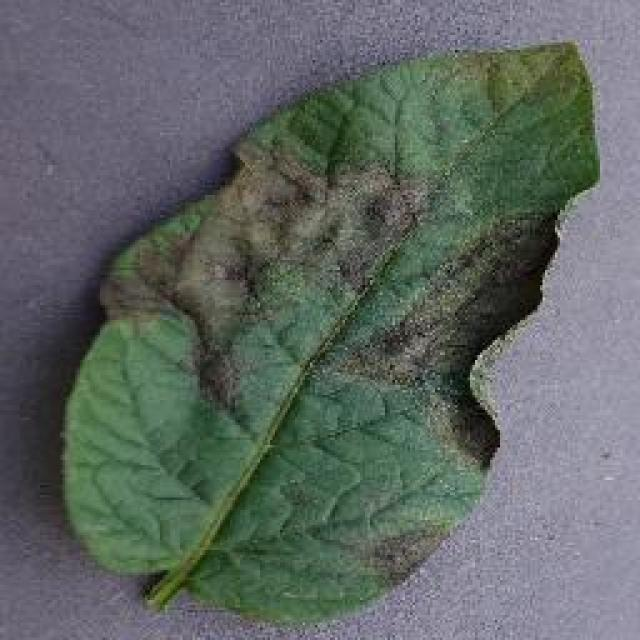late_blight: (55, 35, 605, 627)
